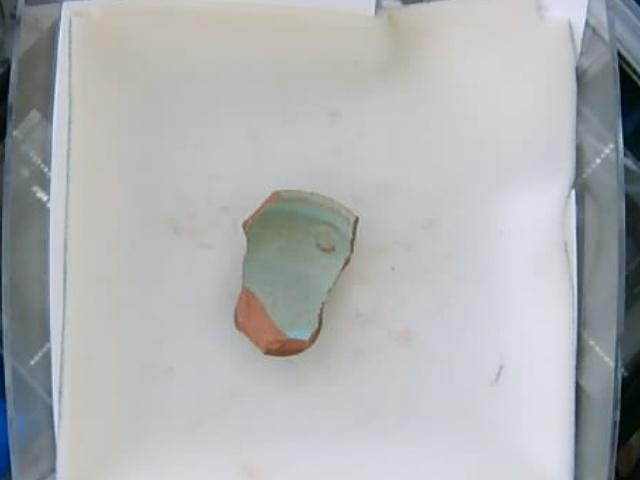China: (235, 188, 364, 356)
